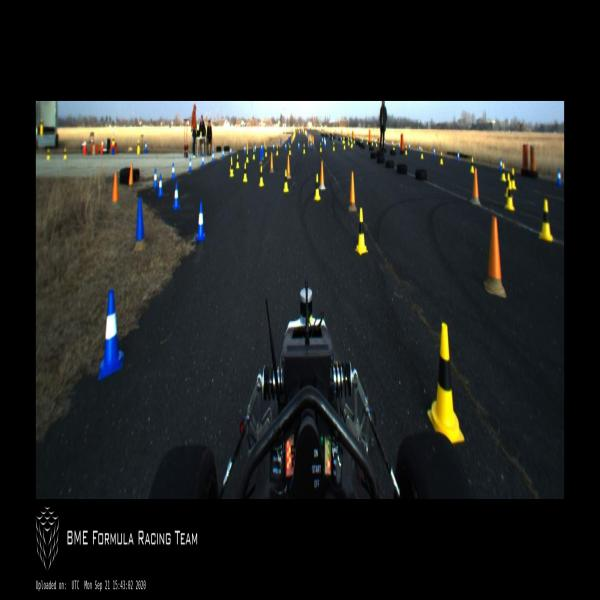blue_cone: (98, 290, 124, 380), (196, 201, 206, 240), (173, 183, 180, 209), (157, 173, 164, 198), (556, 167, 562, 186), (153, 169, 158, 189), (188, 158, 193, 172), (172, 162, 175, 180), (499, 158, 502, 172), (144, 140, 147, 154), (456, 150, 459, 162), (243, 144, 246, 154), (202, 153, 204, 167), (418, 144, 421, 153), (212, 151, 214, 163), (222, 147, 224, 159), (272, 143, 275, 151), (230, 147, 232, 157), (254, 144, 256, 154), (285, 141, 287, 151), (433, 146, 435, 156), (398, 139, 400, 149), (298, 141, 300, 150), (408, 144, 411, 150), (261, 144, 263, 152), (324, 139, 326, 147), (310, 142, 312, 148), (392, 140, 394, 146), (384, 138, 385, 145)
orange_cone: (82, 138, 86, 150), (100, 138, 104, 147)
unknown_cone: (483, 216, 507, 299), (133, 196, 148, 253), (469, 168, 481, 205), (348, 172, 357, 211), (319, 160, 326, 190), (112, 172, 118, 202), (286, 156, 292, 178), (269, 152, 274, 173), (129, 163, 133, 185)
yellow_cone: (427, 324, 464, 442), (354, 208, 369, 256), (538, 199, 554, 242), (506, 180, 516, 212), (314, 174, 320, 201), (283, 169, 289, 192), (511, 168, 517, 190), (505, 173, 510, 198), (242, 162, 248, 182), (258, 166, 264, 186), (501, 162, 506, 181), (39, 118, 44, 135), (229, 158, 234, 173), (235, 154, 240, 168), (470, 157, 474, 174), (230, 162, 234, 177), (46, 148, 50, 161), (63, 148, 67, 160), (252, 149, 256, 160), (136, 140, 140, 151), (441, 151, 444, 164), (421, 147, 424, 160), (246, 150, 249, 162), (404, 144, 407, 156), (112, 136, 115, 144), (343, 141, 346, 149), (375, 139, 378, 147), (371, 138, 374, 146), (265, 146, 267, 157), (276, 146, 278, 156), (289, 145, 291, 155), (303, 144, 305, 154), (320, 142, 322, 152), (333, 142, 335, 151), (348, 138, 350, 146), (366, 137, 368, 145), (351, 140, 353, 148), (393, 143, 395, 150)
